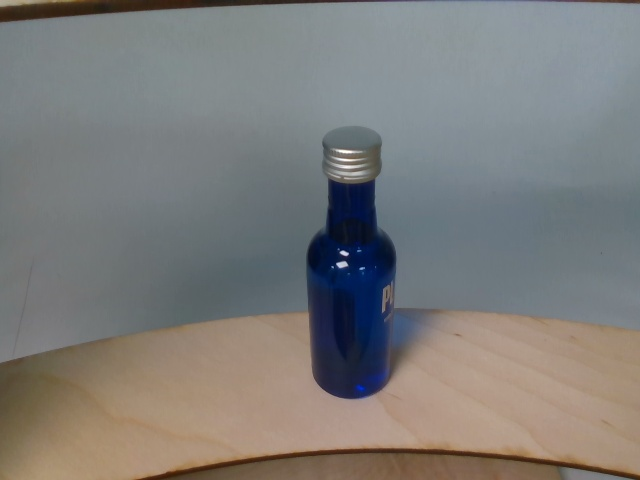tonic_water: (303, 125, 398, 401)
